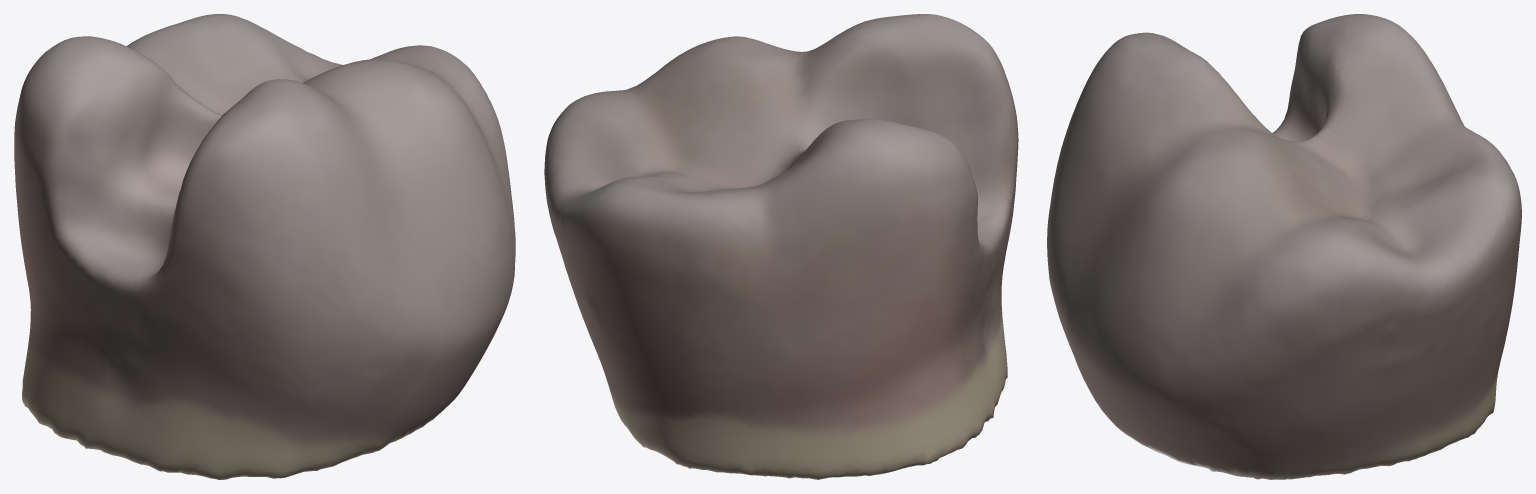
The model's file is CLASE II - corte oclusal glb.glb.
The picture shows the model from 3 angles, left to right: view 1: azimuth 30°, elevation 25°; view 2: azimuth 150°, elevation 25°; view 3: azimuth 270°, elevation 25°; orthographic projection. The views are drawn at different scales.
Visible parts, largest first — view 1: Clase II - Corte Oclusal; view 2: Clase II - Corte Oclusal; view 3: Clase II - Corte Oclusal.
Part boxes in pixels (box(x1,y1,x2,y2)): Clase II - Corte Oclusal: box(14, 14, 515, 479); Clase II - Corte Oclusal: box(544, 14, 1018, 479); Clase II - Corte Oclusal: box(1047, 14, 1521, 479).
Bounding box in the file's own units: 5.9 × 4.6 × 5.86.
